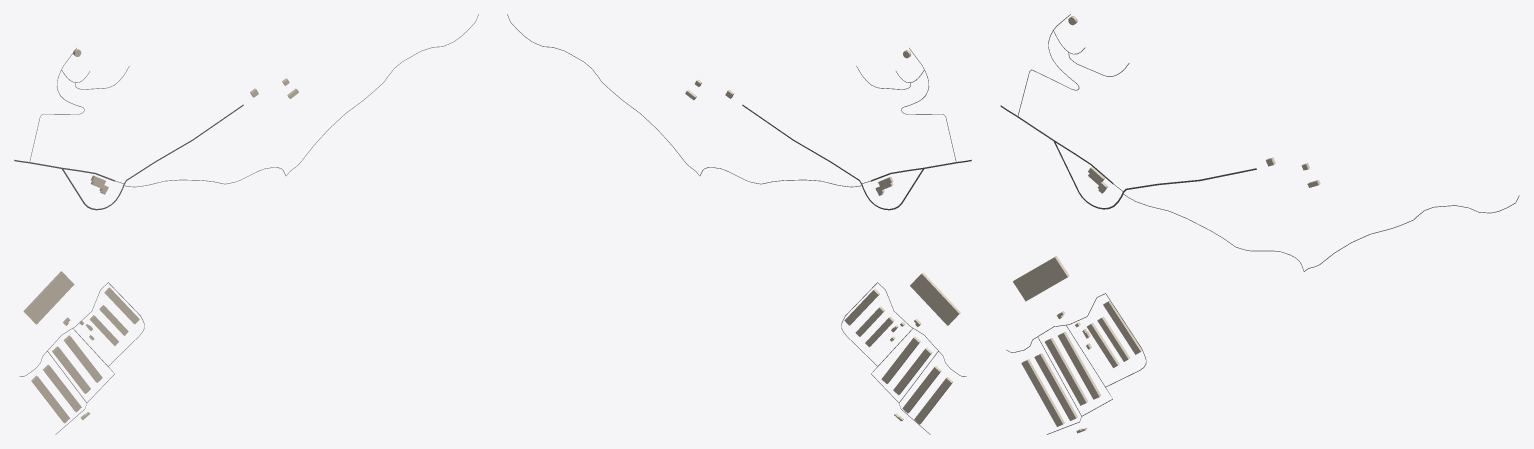
The model's file is historic-palestine-16_35_3581_3297.glb.
3 views of the same model, side by side, from view 1: azimuth 30°, elevation 25°; view 2: azimuth 150°, elevation 25°; view 3: azimuth 330°, elevation 25° (orthographic). The views are drawn at different scales.
Visible parts, largest first — view 1: Building_.017, Building_.010, Building_.013, Building_.011, Building_.012; view 2: Building_.017, Building_.011, Building_.012, Building_.010, Building_.013; view 3: Building_.017, Building_.011, Building_.012, Building_.010, Building_.013, Building_.007, Road.
Boxes of the visible parts, <box> form: Building_.017: <box>23,271,74,324</box>; Building_.010: <box>63,335,102,382</box>; Building_.013: <box>31,375,69,423</box>; Building_.011: <box>52,346,90,393</box>; Building_.012: <box>42,364,81,412</box>; Building_.017: <box>910,272,960,325</box>; Building_.011: <box>893,347,932,395</box>; Building_.012: <box>902,366,941,413</box>; Building_.010: <box>881,336,920,383</box>; Building_.013: <box>914,377,952,424</box>; Building_.017: <box>1013,256,1069,301</box>; Building_.011: <box>1045,338,1088,405</box>; Building_.012: <box>1034,353,1077,420</box>; Building_.010: <box>1058,332,1101,399</box>; Building_.013: <box>1021,359,1064,426</box>; Building_.007: <box>1103,300,1142,354</box>; Road: <box>1053,140,1256,209</box>.
Size of the model in its own units: 1194 by 938 by 8.7.
